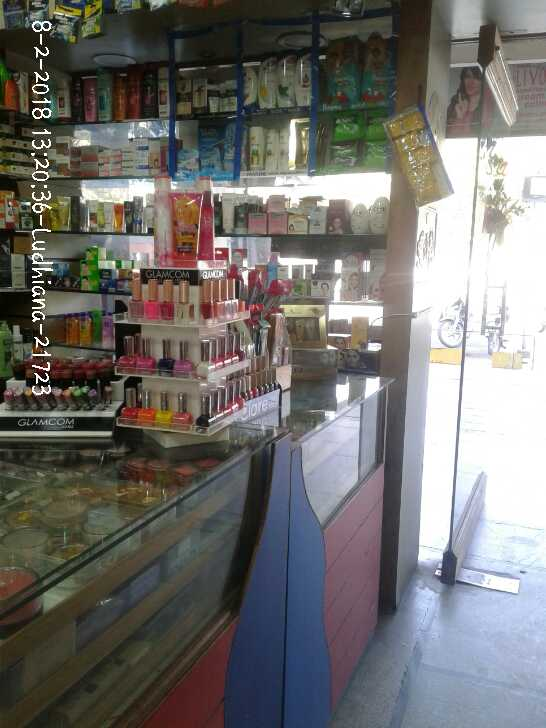venus: (224, 120, 237, 170), (178, 148, 201, 172), (201, 148, 224, 170)
